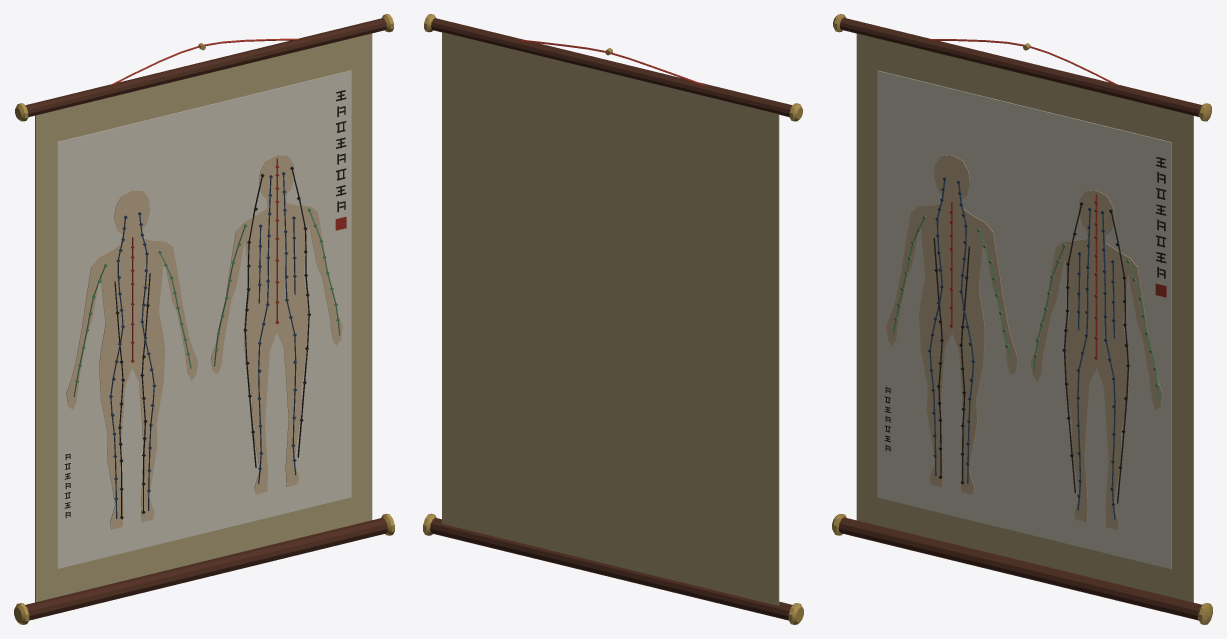
The model's file is acu-meridian-chart.glb.
3 renders of one model, left to right at view 1: azimuth 30°, elevation 25°; view 2: azimuth 150°, elevation 25°; view 3: azimuth 330°, elevation 25°, orthographic.
Visible parts, largest first — view 1: acu-meridian-chart; view 2: acu-meridian-chart; view 3: acu-meridian-chart.
Boxes of the visible parts, x1,y1,x2,y2 form: acu-meridian-chart: (14, 14, 394, 624); acu-meridian-chart: (423, 14, 803, 624); acu-meridian-chart: (832, 14, 1212, 624).
Bounding box in the file's own units: 0.892 × 1.21 × 0.0437.
